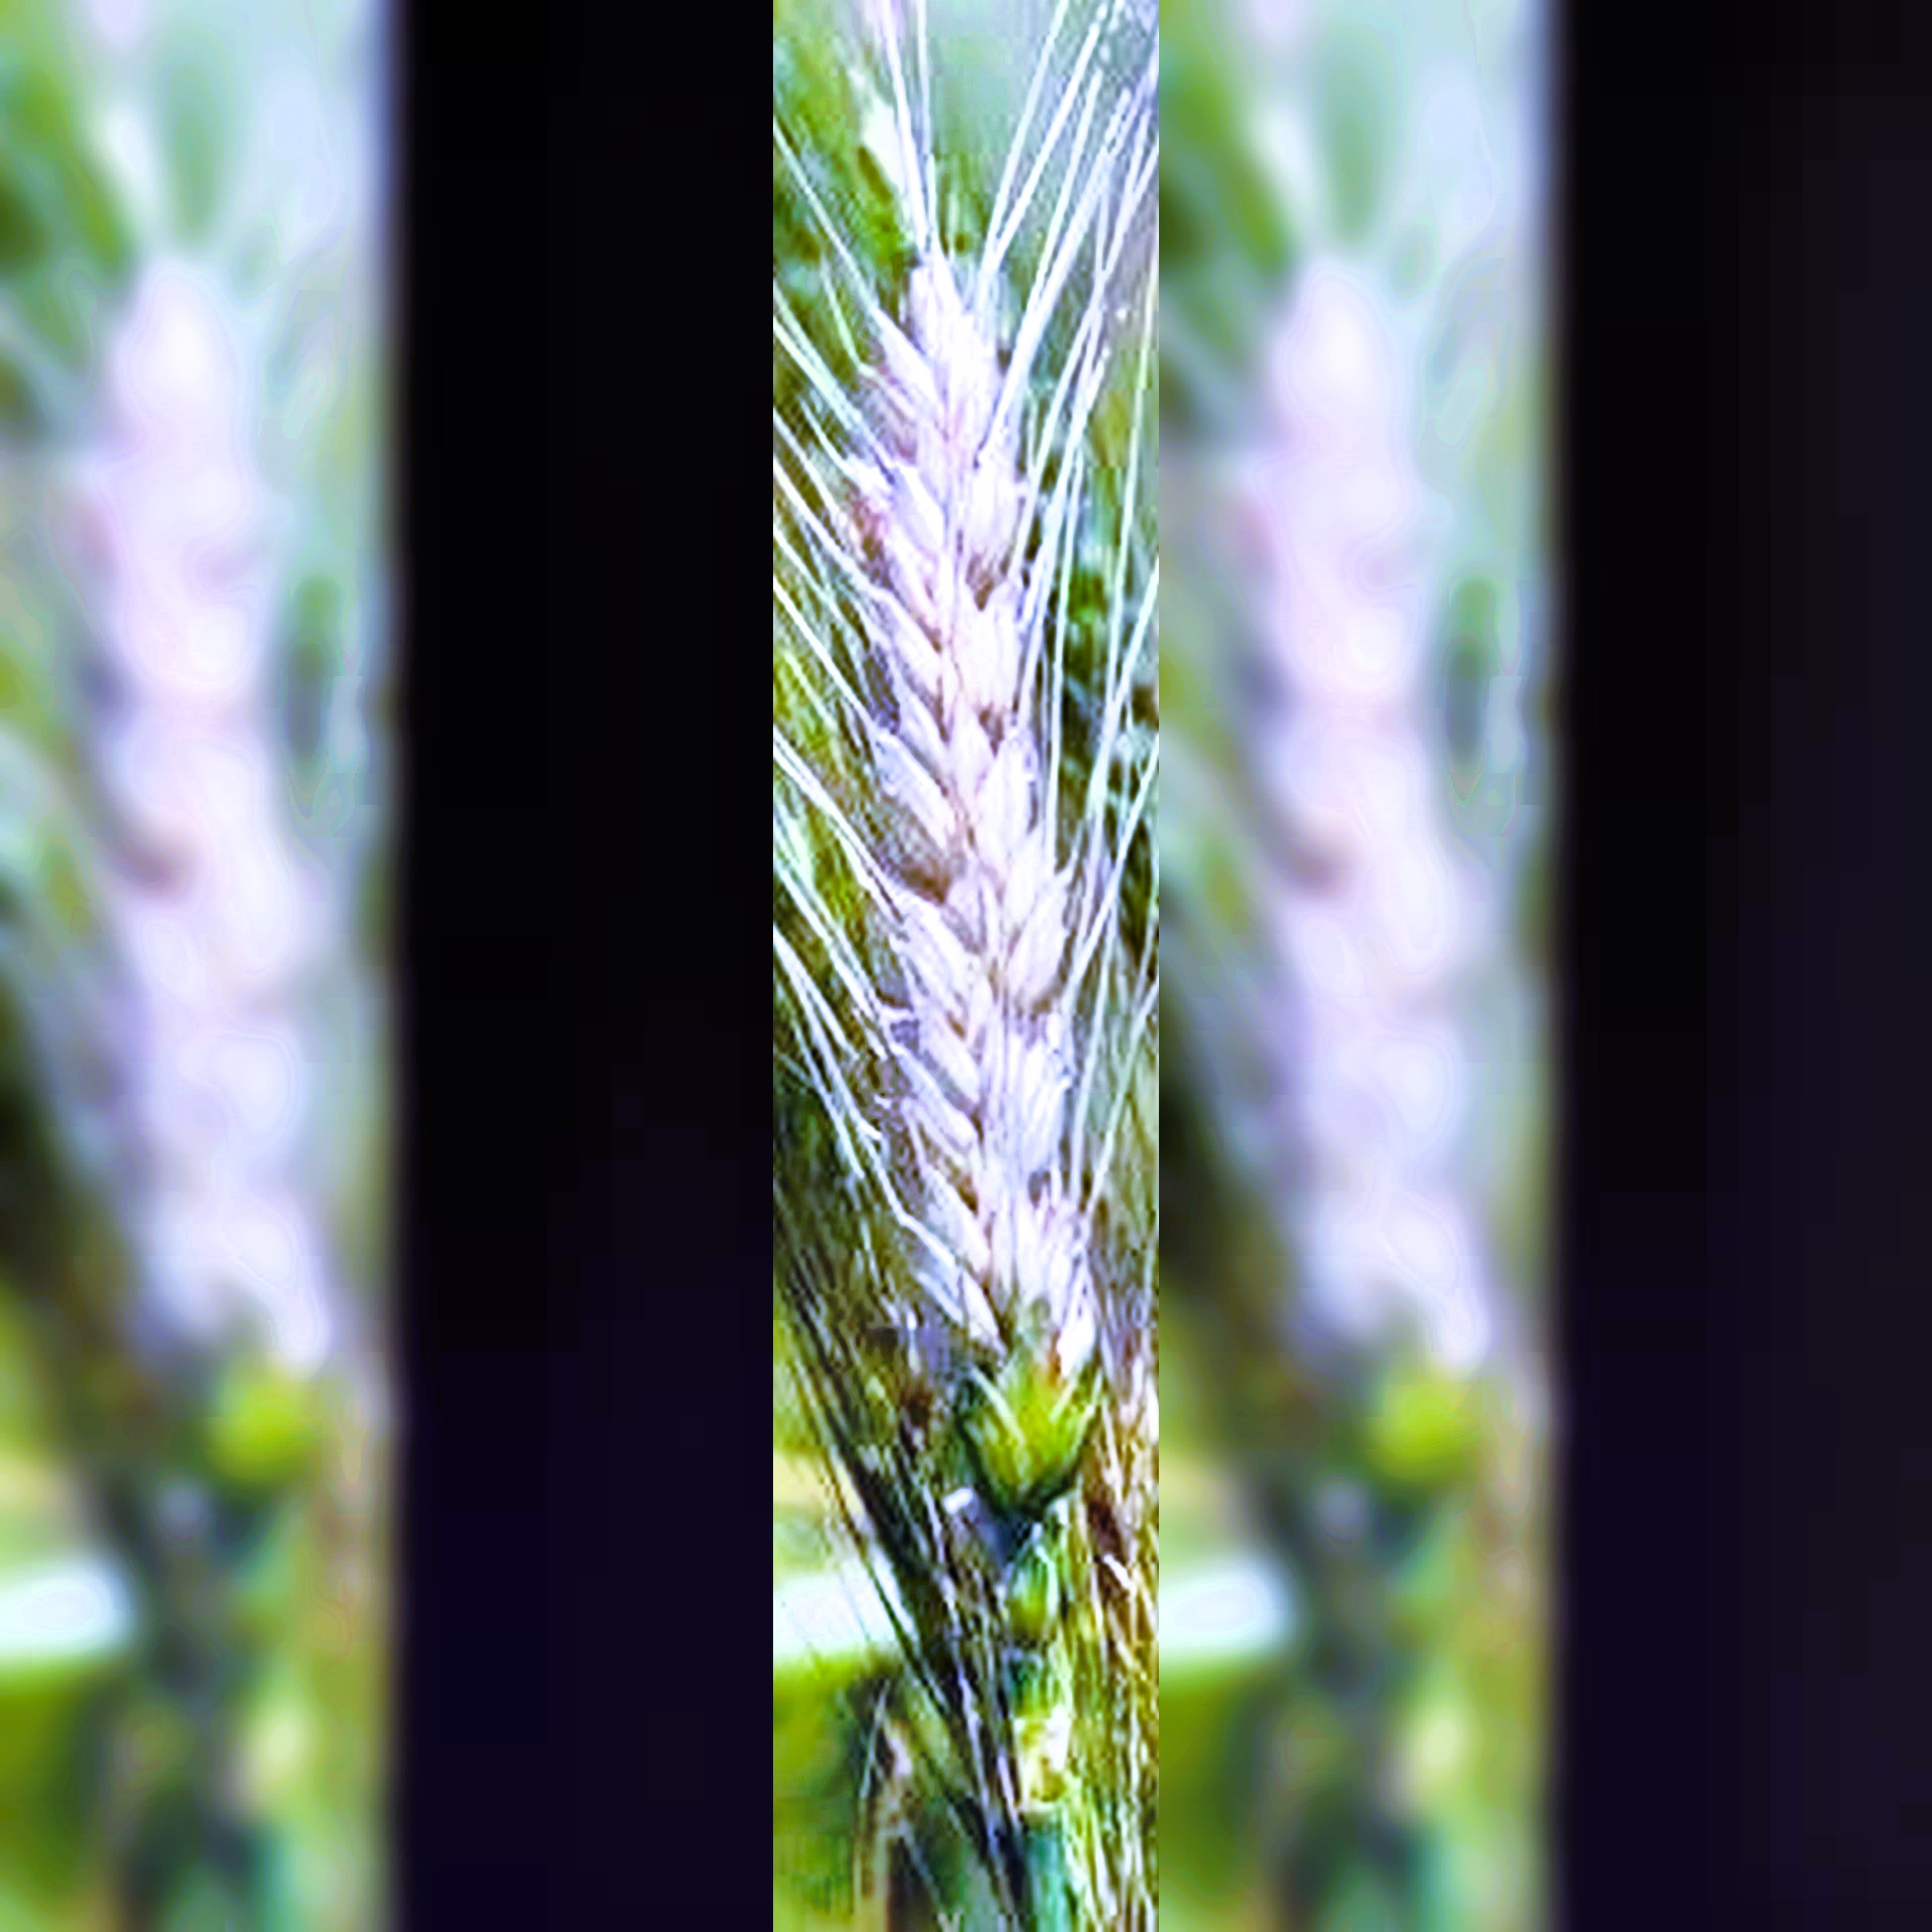Wheat scab: (823, 246, 1138, 1516)
